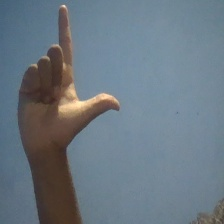L: (12, 2, 123, 160)
